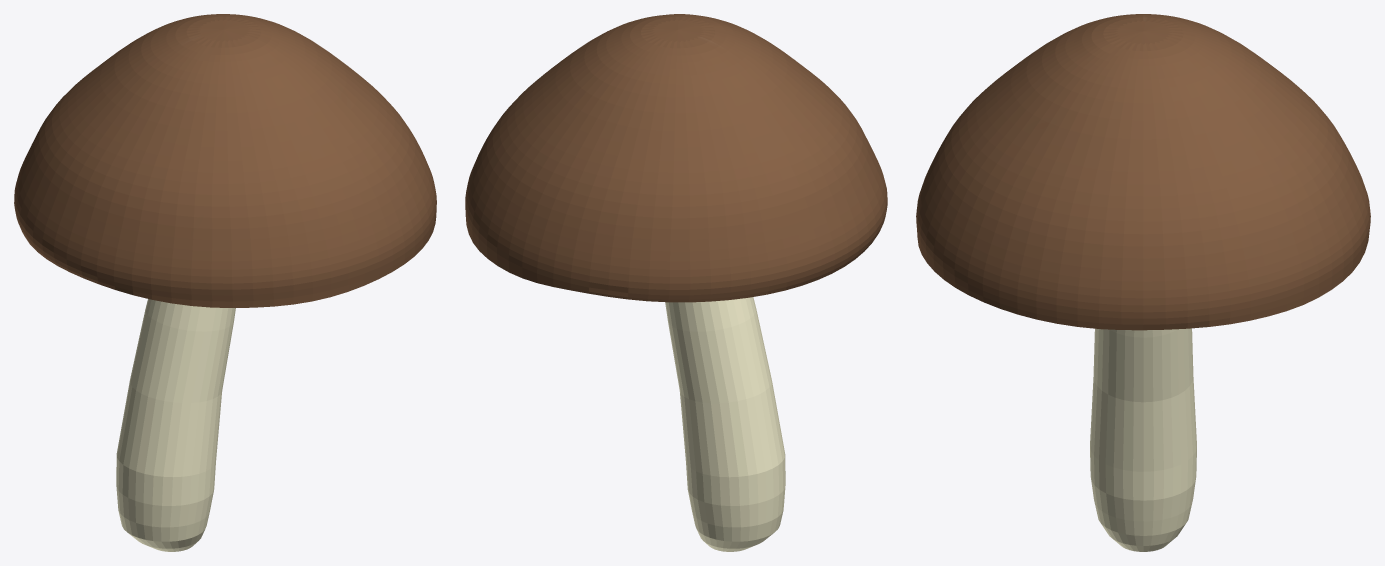
File: mushroom-2.fbx
3 views of the same model, side by side, from view 1: azimuth 30°, elevation 25°; view 2: azimuth 150°, elevation 25°; view 3: azimuth 270°, elevation 25° (orthographic). The views are drawn at different scales.
Parts seen in each view (by area): view 1: Sphere; view 2: Sphere; view 3: Sphere.
Boxes of the visible parts, box(x1,y1,x2,y2) form: Sphere: box(14, 14, 436, 551); Sphere: box(465, 14, 887, 551); Sphere: box(916, 14, 1370, 551).
Bounding box in the file's own units: 188 × 245 × 188.
